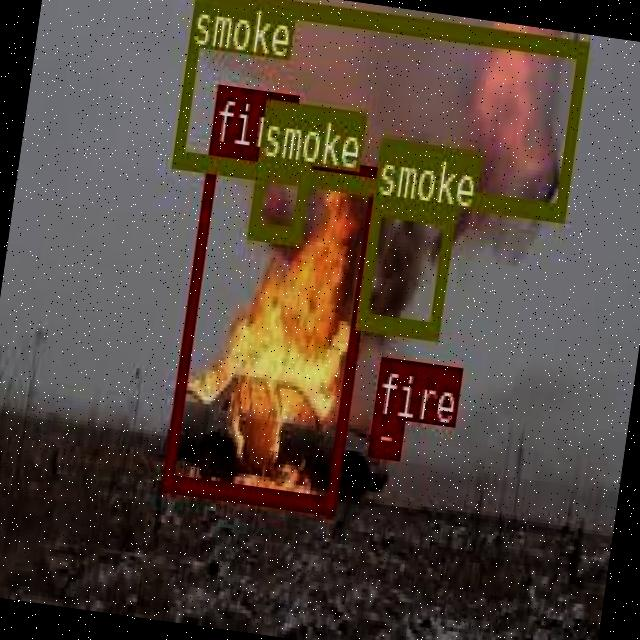fire: (160, 142, 382, 512), (368, 414, 403, 456)
smoke: (171, 0, 587, 219), (355, 193, 454, 334), (246, 156, 310, 243)
